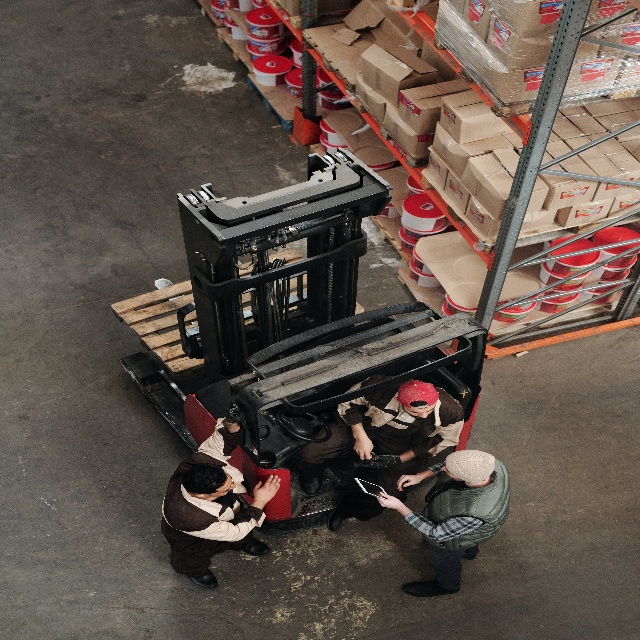Guantes: (353, 448, 378, 468), (229, 401, 247, 428), (225, 398, 241, 424)
Sin_guantes: (253, 474, 280, 507), (353, 433, 374, 461), (396, 473, 421, 491), (376, 491, 398, 510)
